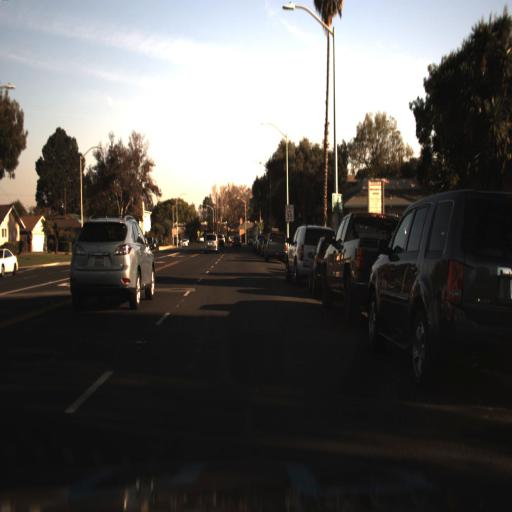car: (365, 192, 512, 401), (59, 195, 156, 313), (320, 208, 367, 324), (282, 216, 309, 288), (305, 232, 326, 299), (262, 228, 284, 260), (0, 247, 19, 280), (229, 232, 245, 256), (180, 234, 190, 251)
